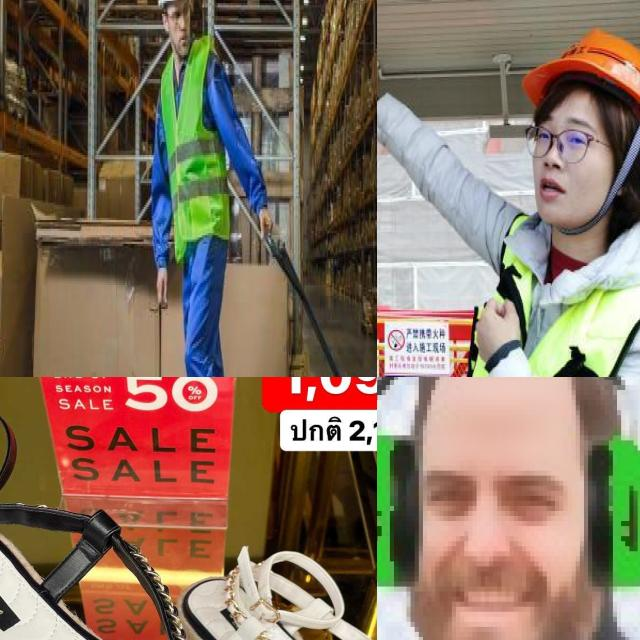Ear-protection: (377, 377, 640, 640), (377, 377, 640, 598)
Sandals: (0, 382, 301, 640), (172, 518, 377, 640)
face_nomask: (526, 99, 604, 224), (165, 5, 199, 62)
glasses: (522, 123, 594, 169)
hand_noglove: (468, 283, 530, 371), (252, 181, 277, 255), (154, 259, 172, 329)
head_helmet: (521, 29, 640, 142)
person: (465, 41, 640, 377), (141, 0, 261, 377)
vest: (474, 199, 640, 377), (159, 36, 230, 252)
